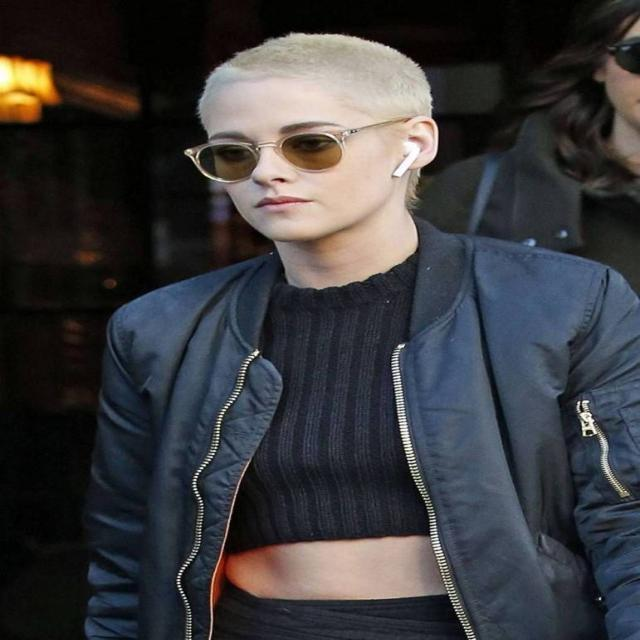earphone: (380, 128, 435, 198)
